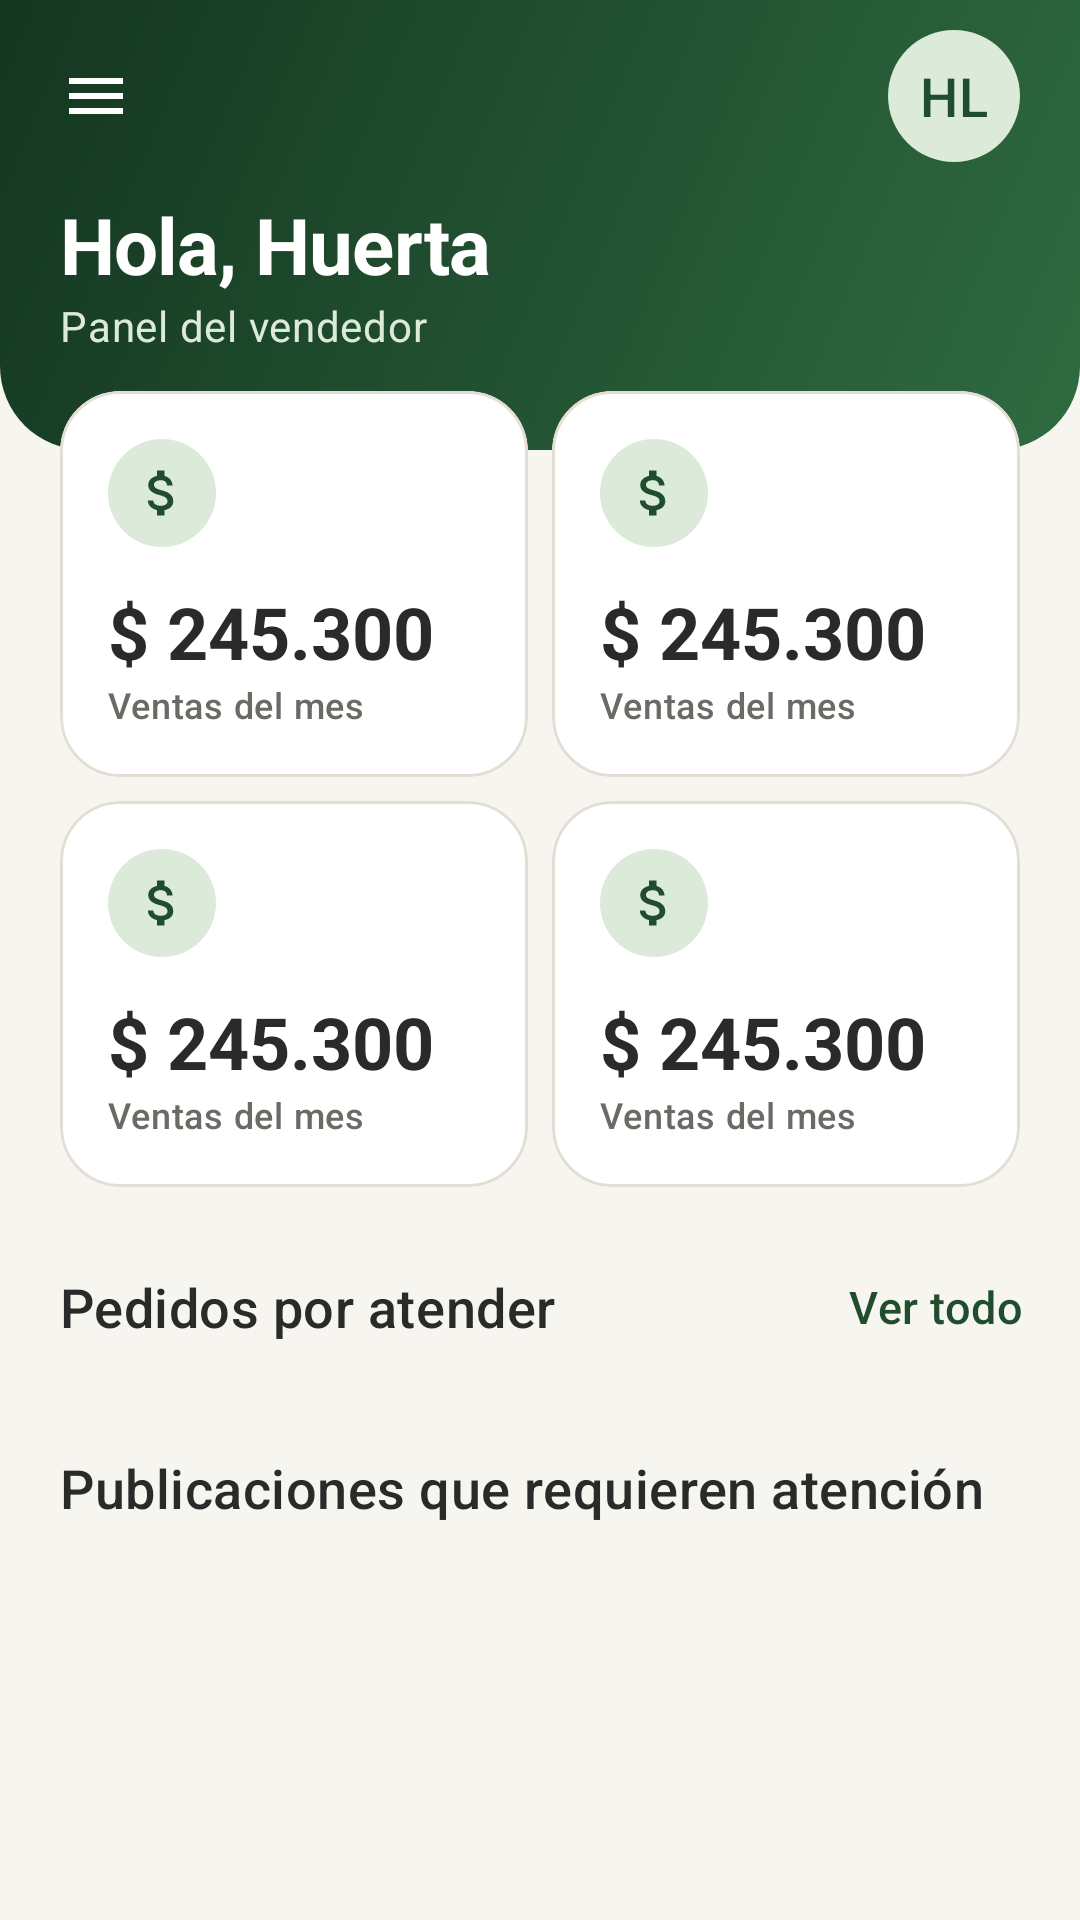

Icons on this 1080 × 1920 Android screen, each with the point to tap as (x=x, y=y):
Abrir menú: (x=96, y=96)
